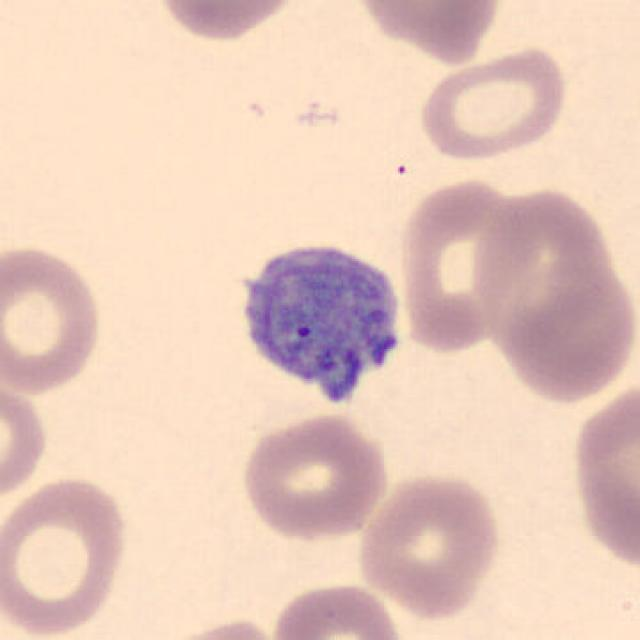Platelets: (217, 228, 414, 420)
RBC: (468, 180, 628, 379), (393, 173, 531, 358), (354, 469, 505, 621), (0, 472, 133, 638), (237, 409, 391, 543), (494, 261, 636, 405), (414, 42, 571, 164), (0, 240, 107, 398), (567, 374, 638, 576), (345, 0, 507, 62), (268, 578, 409, 640), (0, 374, 52, 508), (151, 0, 306, 44), (149, 615, 288, 640)
